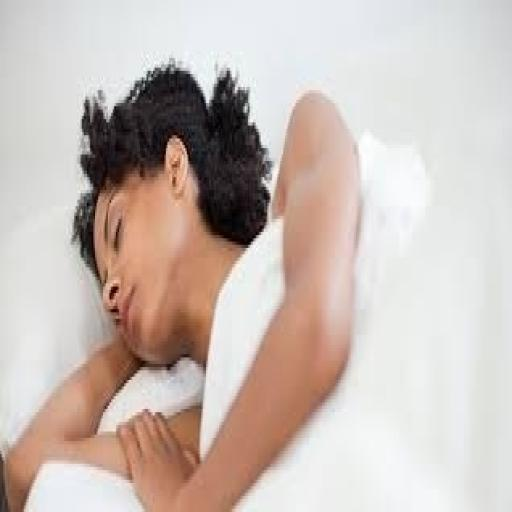sleeping: (2, 55, 366, 509)
